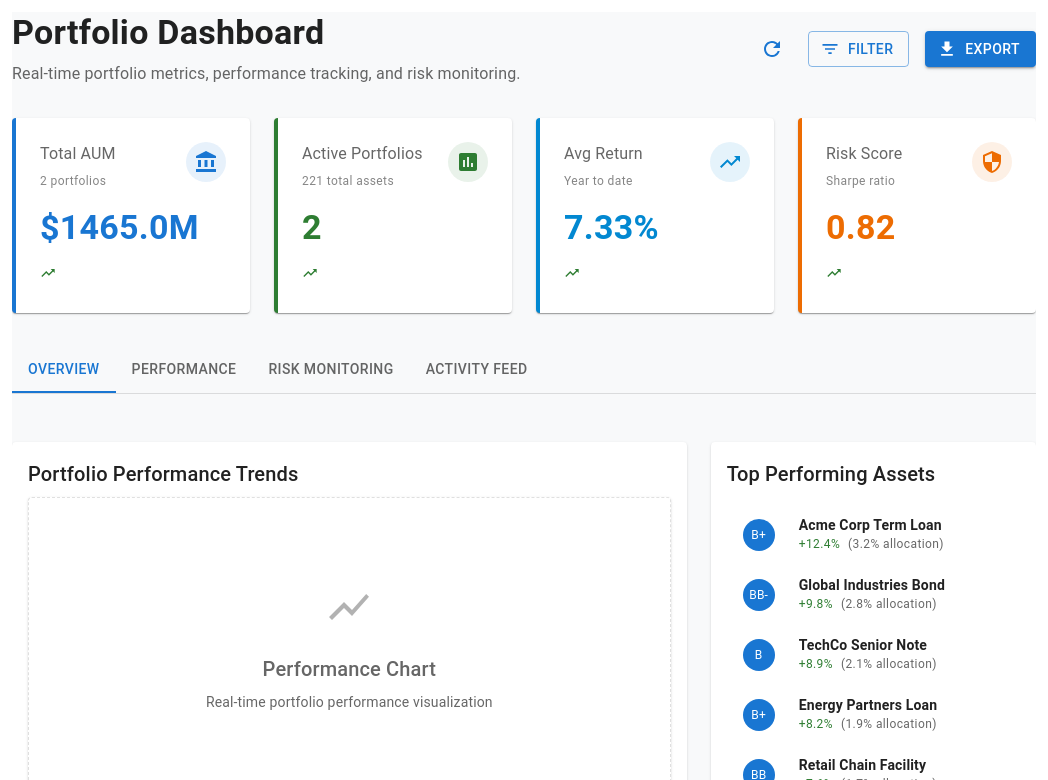
PortfolioDashboard › switches tabs correctly
Click the tab "Performance": (184, 370) top-left (116, 346), bottom-right (252, 394)
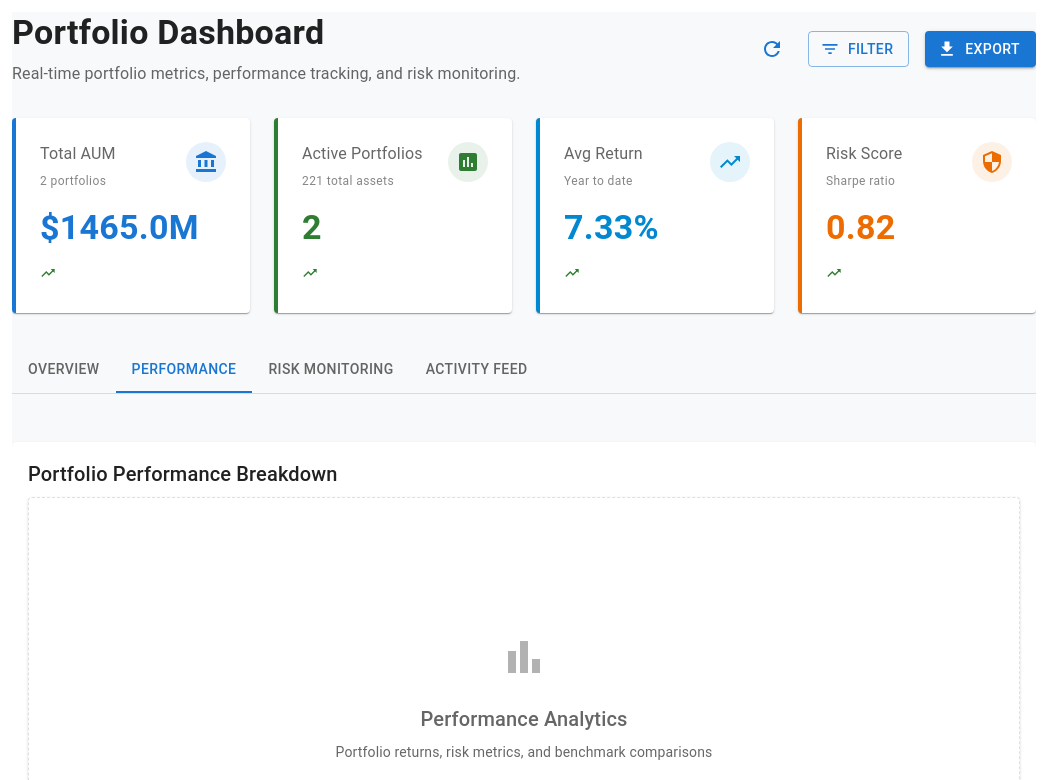
Check: the heading "Performance Analytics" is shown, box top-left (420, 707), bottom-right (628, 731)
Check: the text "Portfolio returns, risk metrics, and benchmark comparisons" is shown, box top-left (336, 742), bottom-right (712, 762)
